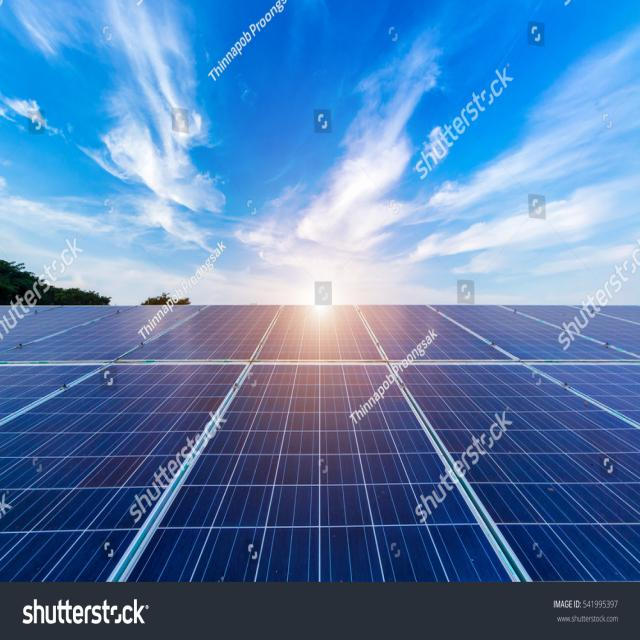clean-solar-panel: (1, 303, 640, 582)
